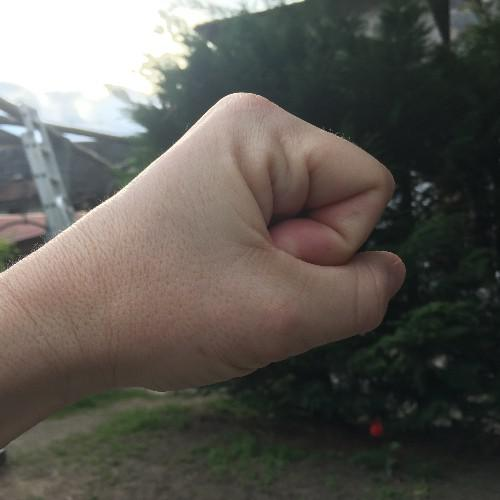rock: (22, 86, 408, 401)
